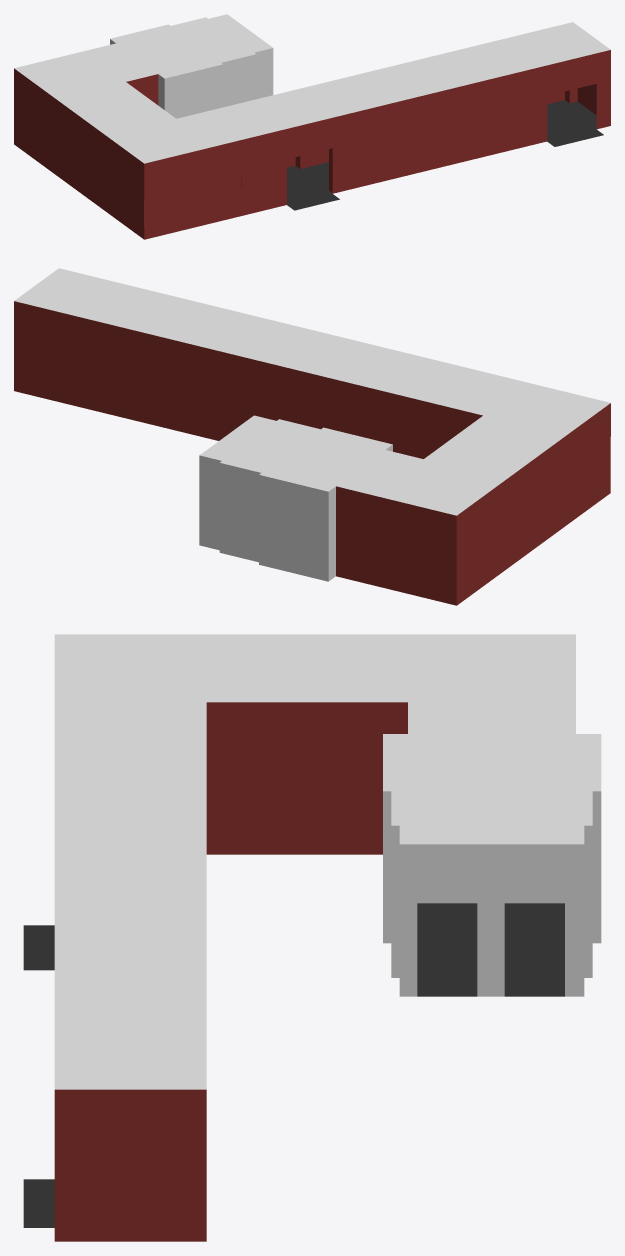
File: Couloir de service 1.fbx
3 renders of one model, top to bottom at view 1: azimuth 30°, elevation 25°; view 2: azimuth 150°, elevation 25°; view 3: azimuth 270°, elevation 25°, orthographic. The views are drawn at different scales.
Visible parts, largest first — view 1: Couloir de Service.002, Relief Mur; view 2: Couloir de Service.002; view 3: Couloir de Service.002.
Part boxes in pixels (x1,y1,x2,y2): Couloir de Service.002: [14, 14, 610, 239]; Relief Mur: [144, 88, 577, 239]; Couloir de Service.002: [14, 268, 610, 605]; Couloir de Service.002: [23, 634, 601, 1241].
Bounding box in the file's own units: 6418 × 1000 × 3438.
